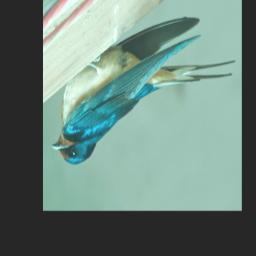Swallow: (51, 15, 236, 166)
